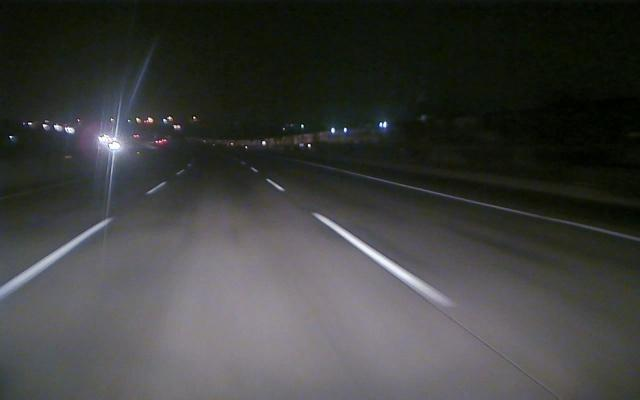lane: (268, 180, 456, 309), (337, 169, 637, 242), (1, 183, 163, 298)
